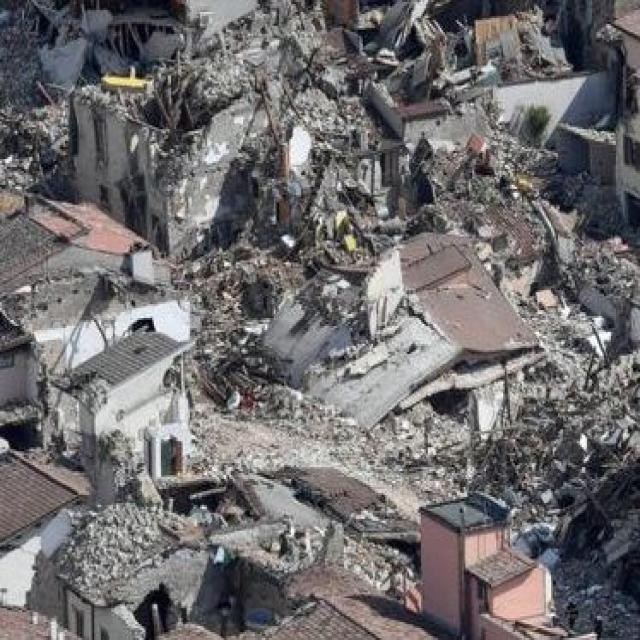collapsed_building: (260, 185, 532, 433), (79, 459, 397, 638), (333, 0, 624, 181), (72, 62, 272, 255)
